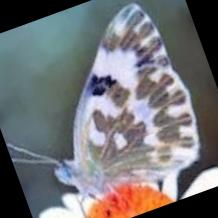butterfly: (54, 2, 200, 200)
